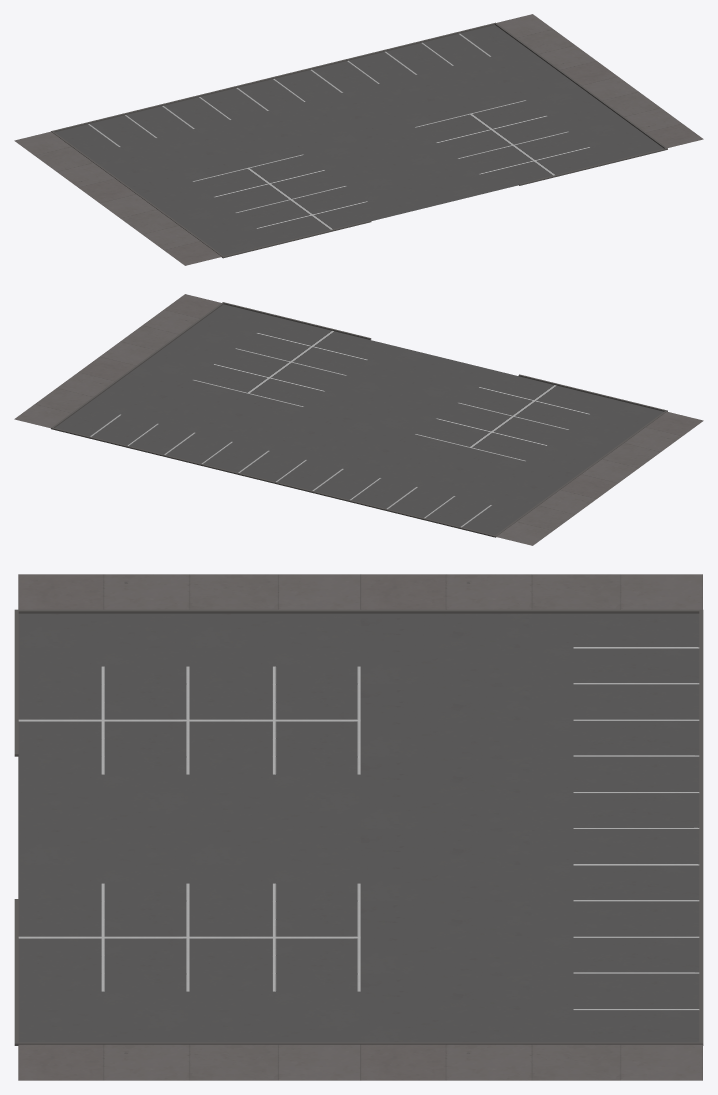
File: SM_Floor_Parking_05.fbx
The picture shows the model from 3 angles, top to bottom: view 1: azimuth 30°, elevation 25°; view 2: azimuth 150°, elevation 25°; view 3: azimuth 270°, elevation 25°; orthographic projection. The views are drawn at different scales.
Visible parts, largest first — view 1: SM_Floor_Parking_05; view 2: SM_Floor_Parking_05; view 3: SM_Floor_Parking_05.
Boxes of the visible parts, bbox=[...] form: SM_Floor_Parking_05: bbox=[14, 14, 703, 265]; SM_Floor_Parking_05: bbox=[14, 294, 703, 545]; SM_Floor_Parking_05: bbox=[14, 574, 703, 1080].
Size of the model in its own units: 35 by 0.075 by 20.11.
